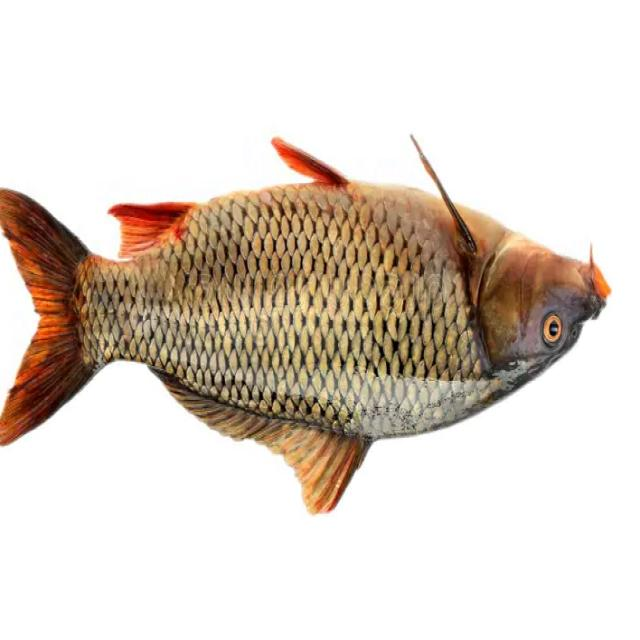Common carp: (0, 133, 605, 514)
